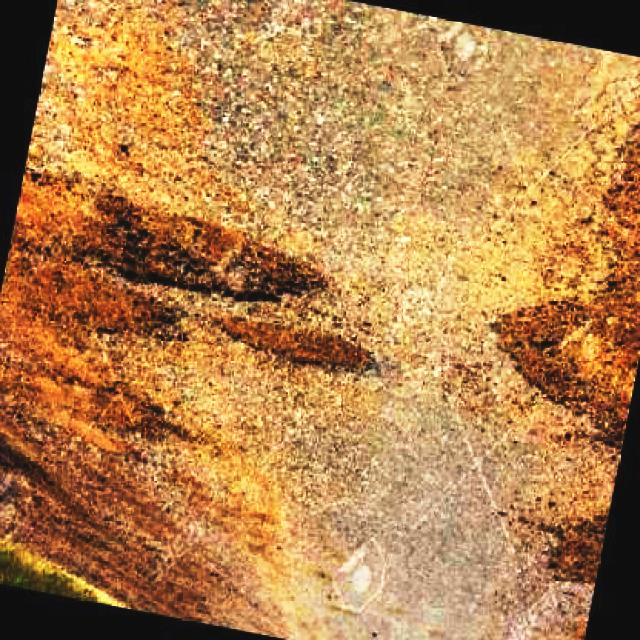pothole: (464, 92, 640, 443), (48, 177, 332, 315), (0, 250, 180, 362), (214, 315, 386, 380), (532, 488, 623, 603)
